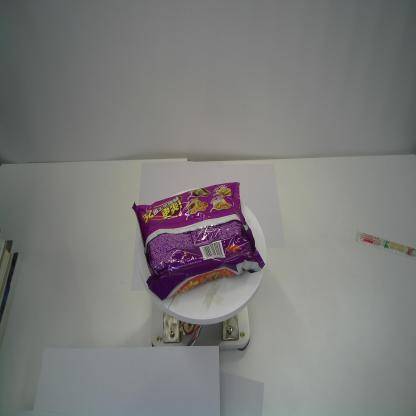Instant Noodles: (131, 181, 265, 302)
